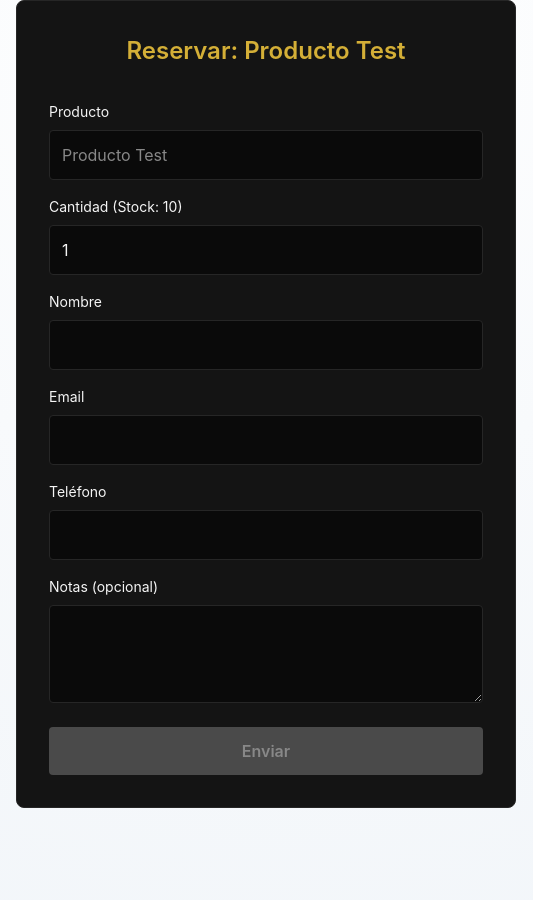
it: ReservationForm Component › Validation › should validate phone number length
Fill short phone
In the field labelled "Teléfono": (266, 535) x1=49 y1=510 x2=483 y2=560, type "123"
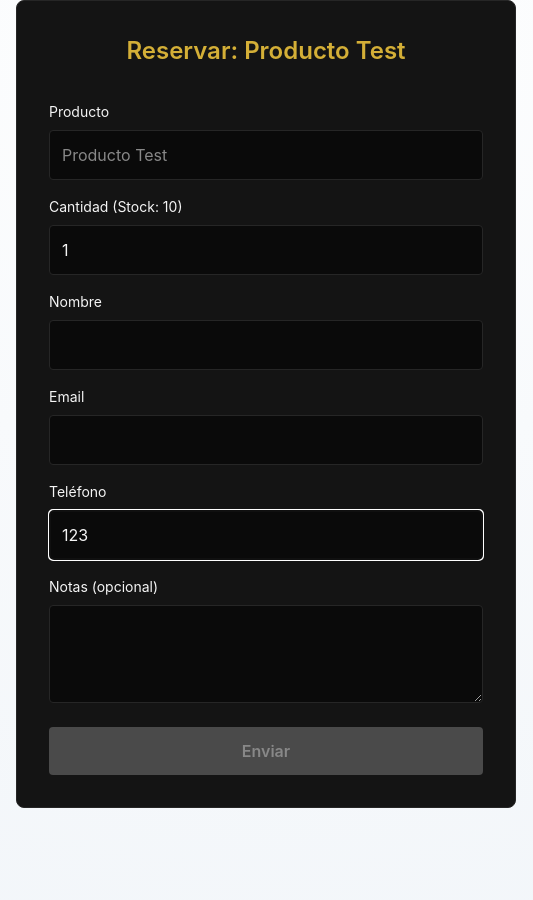
Submit form
Submit the form with test id "reservation-form"
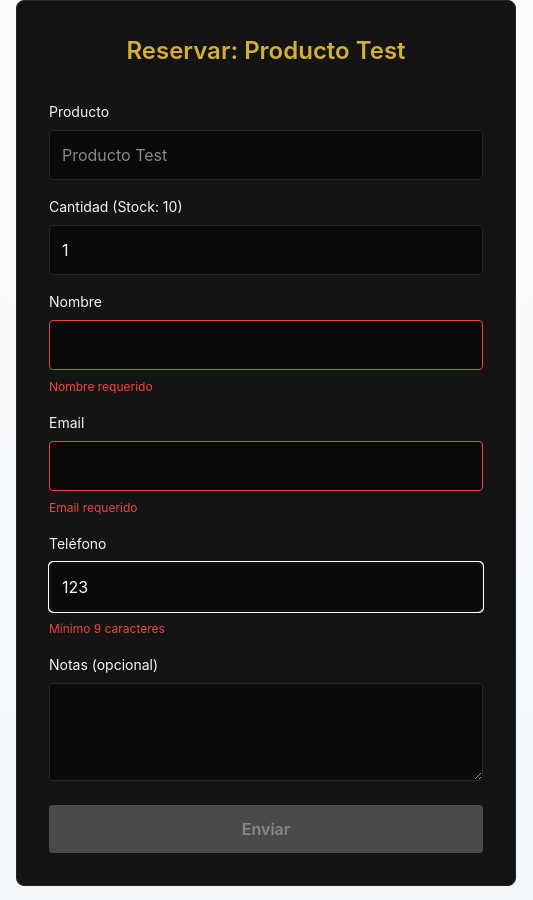
Expected: the text "Mínimo 9 caracteres" is shown, x1=49 y1=621 x2=165 y2=636
